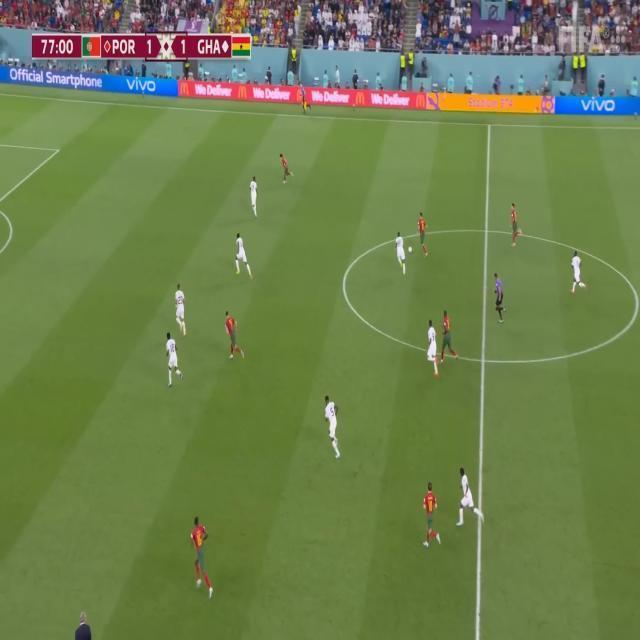player: (455, 461, 486, 532), (190, 517, 214, 605), (319, 386, 344, 469), (421, 476, 441, 556), (223, 306, 246, 367), (439, 309, 460, 369), (567, 242, 588, 301), (232, 230, 254, 286), (165, 329, 183, 388), (509, 195, 524, 254), (175, 281, 190, 339), (415, 209, 429, 261), (428, 319, 440, 379), (279, 148, 295, 190), (248, 172, 259, 224), (396, 231, 408, 277)
